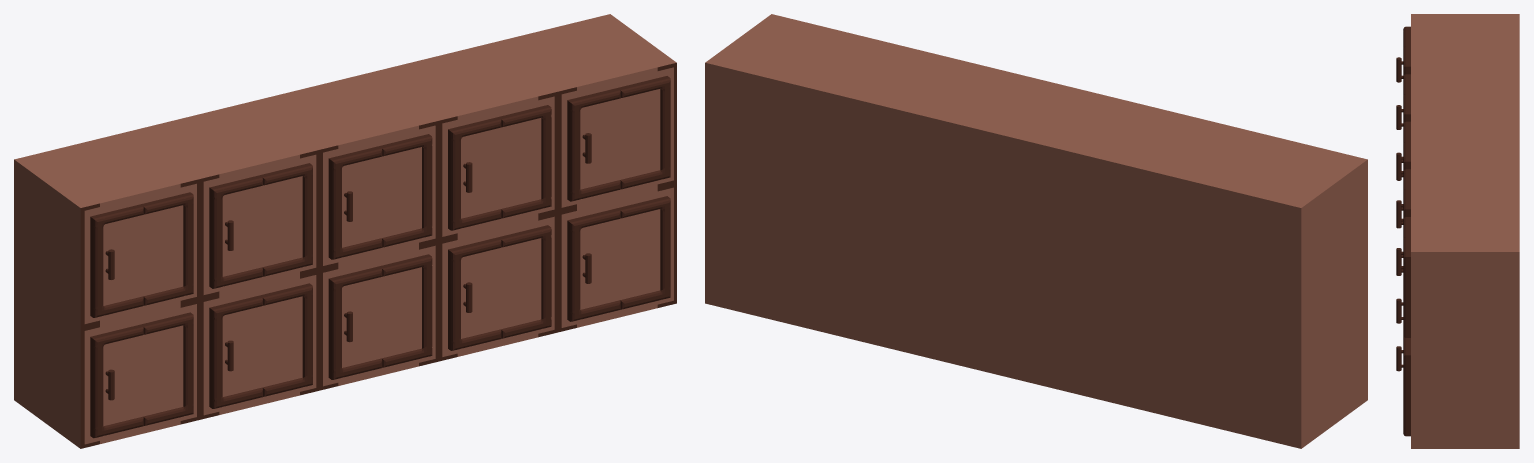
Rendered from lockers.fbx.
3 views of the same model, side by side, from view 1: azimuth 30°, elevation 25°; view 2: azimuth 150°, elevation 25°; view 3: azimuth 270°, elevation 25° (orthographic). The views are drawn at different scales.
Visible parts, largest first — view 1: Cube.001, Cube; view 2: Cube.001, Cube; view 3: Cube.001, Cube.
Boxes of the visible parts, bbox=[...] form: Cube.001: bbox=[14, 14, 676, 328]; Cube: bbox=[14, 183, 676, 448]; Cube.001: bbox=[705, 14, 1367, 328]; Cube: bbox=[705, 183, 1367, 448]; Cube.001: bbox=[1396, 14, 1519, 350]; Cube: bbox=[1396, 159, 1519, 448].
Size of the model in its own units: 1035 by 399 by 227.
